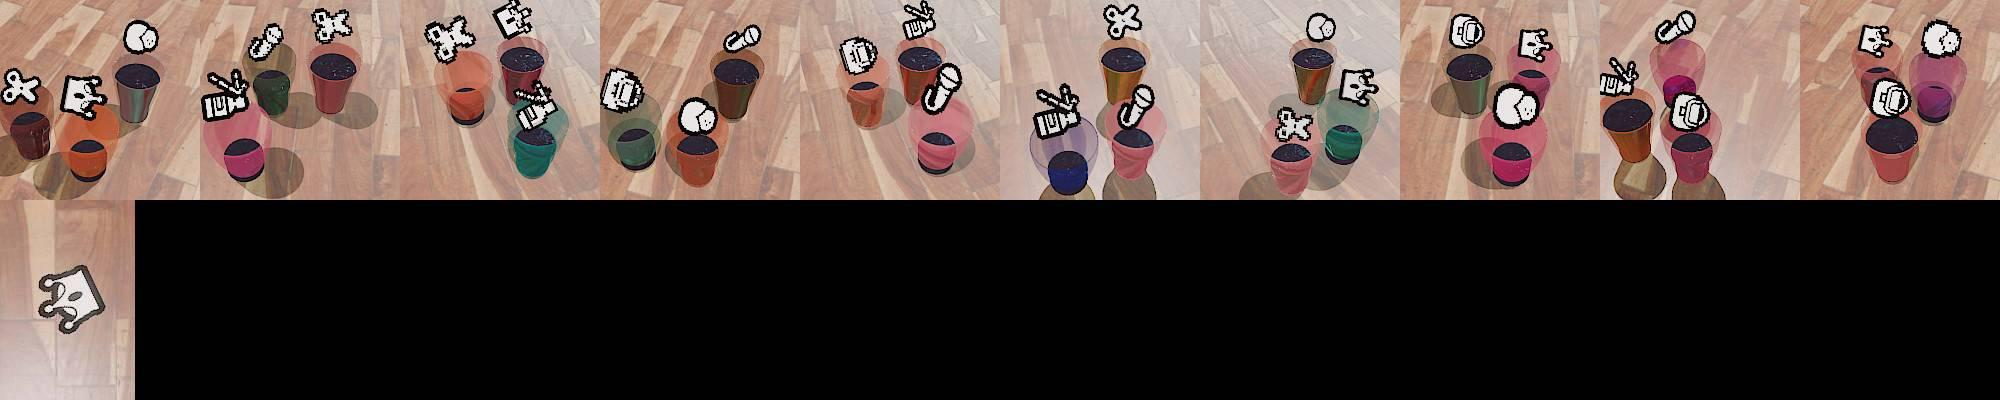icon: (34, 264, 106, 332), (1036, 82, 1085, 138), (423, 14, 477, 65), (202, 69, 253, 121), (513, 83, 560, 131), (921, 61, 962, 115), (59, 74, 107, 118), (601, 66, 645, 112), (1667, 92, 1713, 135), (1116, 82, 1157, 130), (491, 0, 534, 41), (1870, 78, 1912, 118), (839, 36, 880, 76), (677, 94, 718, 135), (1274, 106, 1316, 144), (0, 68, 42, 106), (1598, 57, 1640, 96), (310, 8, 353, 45), (246, 22, 286, 61), (1921, 19, 1962, 57), (1102, 3, 1144, 39), (1654, 9, 1696, 46), (1339, 68, 1378, 107), (1497, 87, 1536, 124), (902, 0, 937, 39), (1448, 13, 1485, 50), (1517, 27, 1555, 62), (1857, 23, 1894, 59), (122, 19, 158, 54), (722, 23, 761, 54), (1305, 11, 1337, 42)
